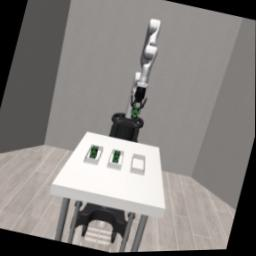cube1: (131, 108, 140, 120)
cube2: (112, 151, 121, 165)
cube3: (90, 146, 100, 159)
